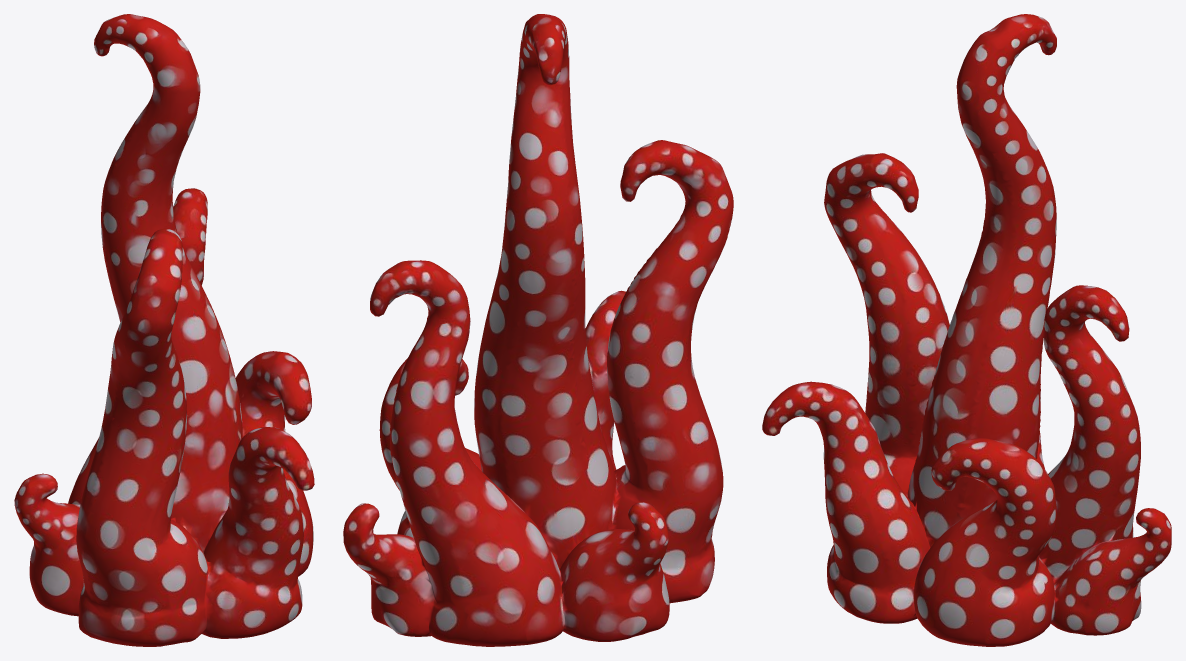
File: ts_tentacle.glb
3 views of the same model, side by side, from view 1: azimuth 30°, elevation 25°; view 2: azimuth 150°, elevation 25°; view 3: azimuth 270°, elevation 25° (orthographic). The views are drawn at different scales.
Parts seen in each view (by area): view 1: tripo_node_6c26a62a-d67c-47d4-8f75-a85de8a20aad; view 2: tripo_node_6c26a62a-d67c-47d4-8f75-a85de8a20aad; view 3: tripo_node_6c26a62a-d67c-47d4-8f75-a85de8a20aad.
Boxes of the visible parts, x1,y1,x2,y2 form: tripo_node_6c26a62a-d67c-47d4-8f75-a85de8a20aad: [14, 14, 314, 646]; tripo_node_6c26a62a-d67c-47d4-8f75-a85de8a20aad: [343, 14, 733, 646]; tripo_node_6c26a62a-d67c-47d4-8f75-a85de8a20aad: [762, 14, 1171, 646].
Size of the model in its own units: 0.5002 by 1 by 0.659.
1 material, 1 textured.
